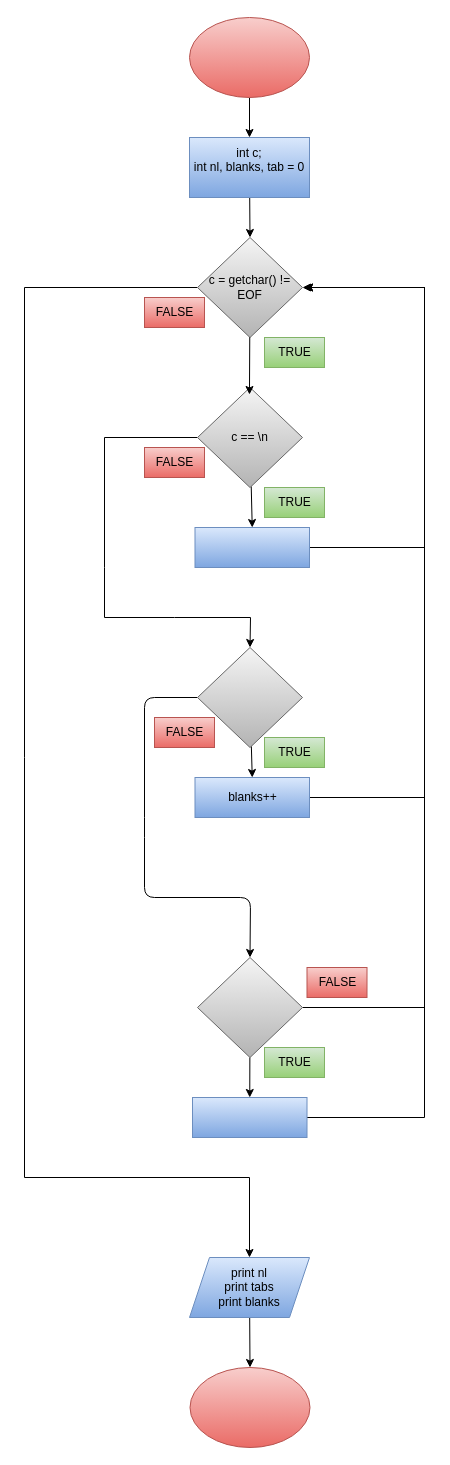
This 450x1465 diagram has some shape labels left out. The centre of each missing label's shape, as x and y in pixels:
c = ' ': (249,697)
c == \t: (249,1007)
END: (249,1407)
nl++: (252,547)
START: (249,57)
tab++: (249,1117)
